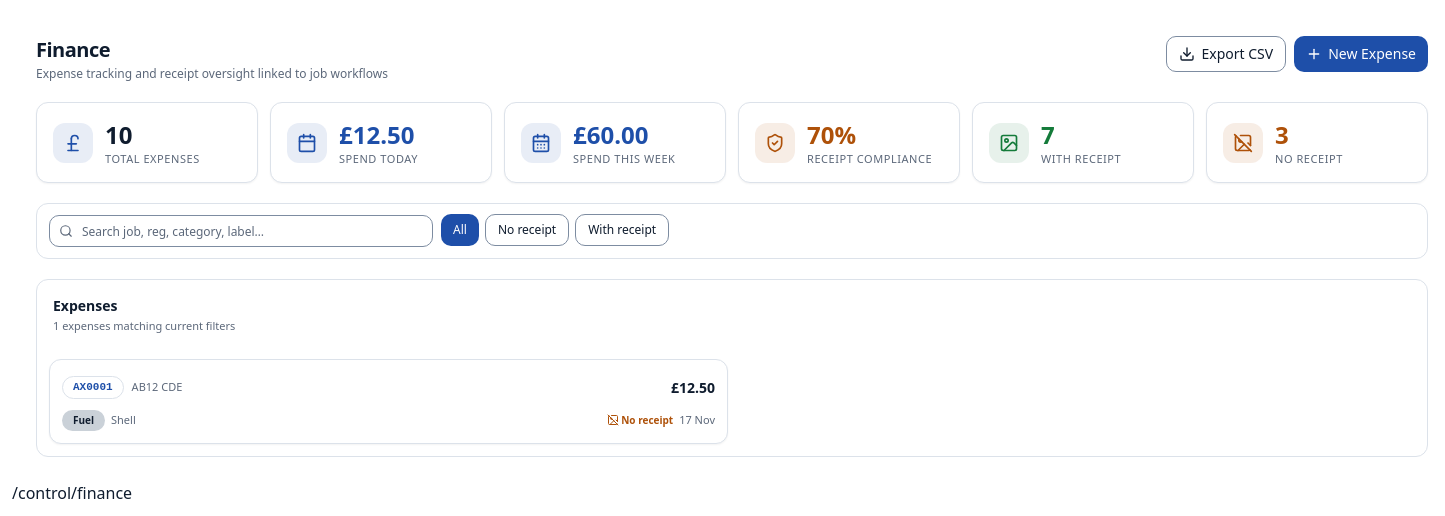
Test: Finance screen › tapping the card opens the expense
Step 1. Click the text "Shell" → (123, 420), box [111, 412, 136, 428]
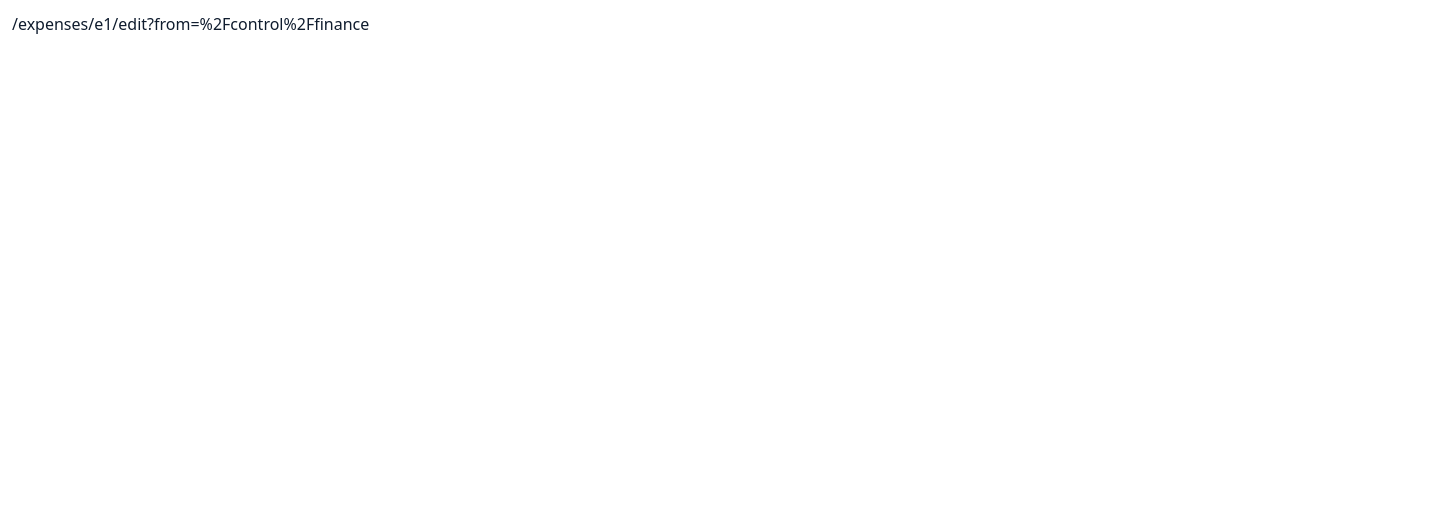
Expected: the text with test id "loc" reads "/expenses/e1/edit?from=%2Fcontrol%2Ffinance", [12, 13, 369, 35]
